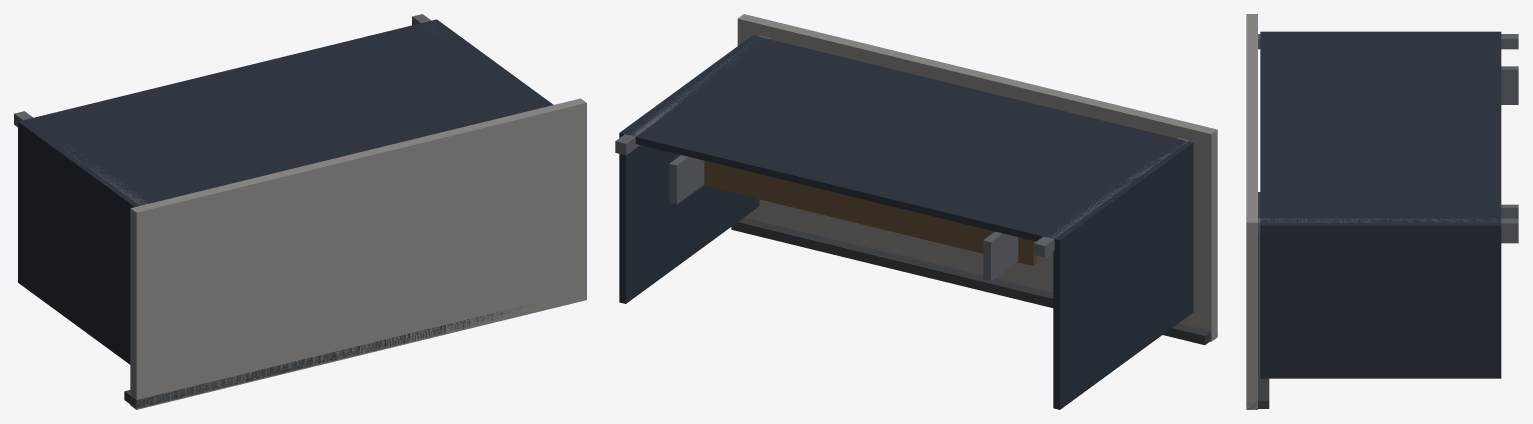
File: bus-shelter.glb
3 renders of one model, left to right at view 1: azimuth 30°, elevation 25°; view 2: azimuth 150°, elevation 25°; view 3: azimuth 270°, elevation 25°, orthographic. The views are drawn at different scales.
Visible parts, largest first — view 1: bus-shelter; view 2: bus-shelter; view 3: bus-shelter.
Boxes of the visible parts, box(x1,y1,x2,y2) form: bus-shelter: box(14, 14, 586, 409); bus-shelter: box(615, 14, 1217, 409); bus-shelter: box(1246, 14, 1518, 409).
Size of the model in its own units: 4.3 by 1.8 by 2.37.
